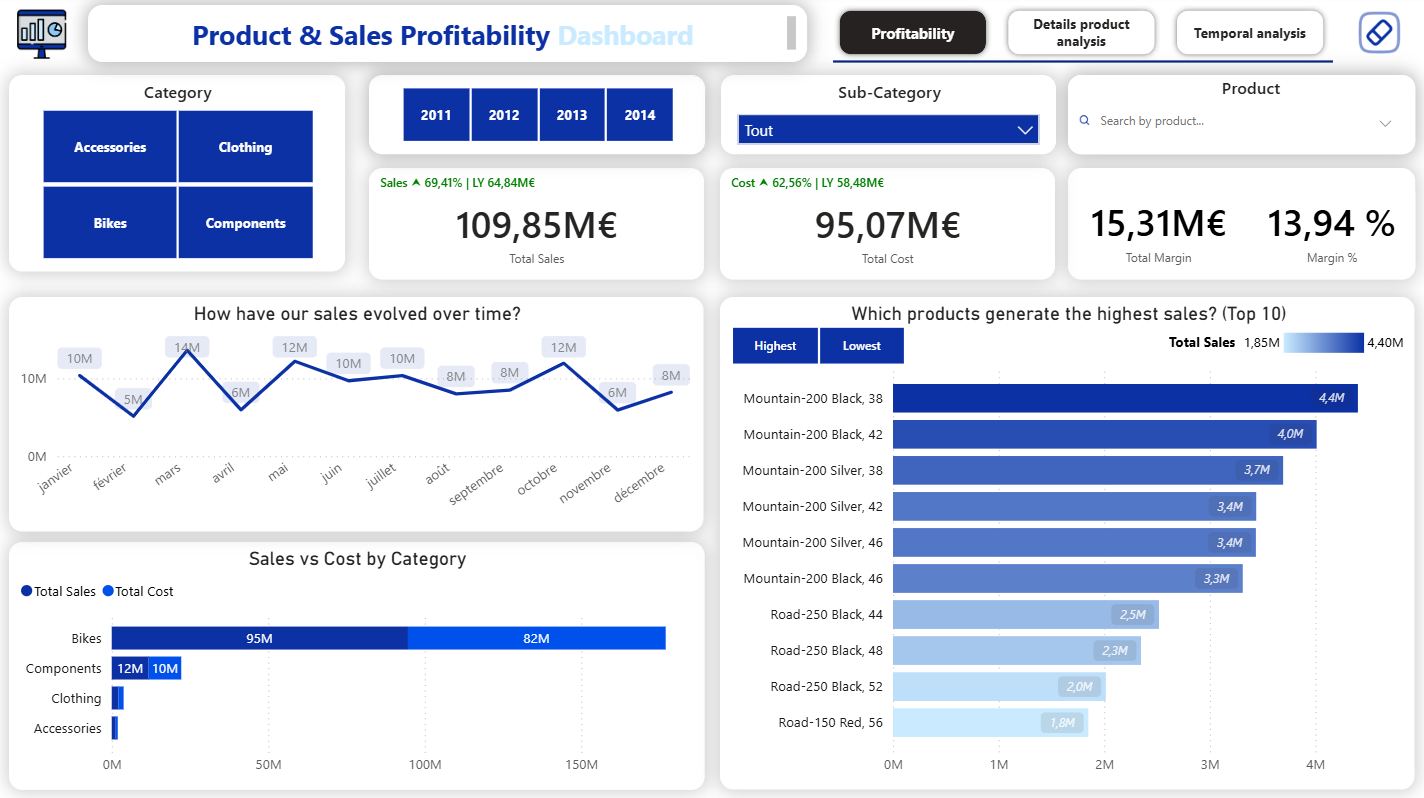

What the dashboard file says about the page in this screenshot:
{"tool":"powerbi","page":{"name":"Profitability","canvas":[1280,720],"ordinal":0},"visuals":[{"type":"shape","box":[959,154.7,311.2,92.4],"z":0},{"type":"card","title":"Total Sales","fields":{"Values":["ProductProfitability.Total Sales"]},"box":[332.6,154.7,300.5,92.4],"z":1000},{"type":"card","title":"Total Margin","fields":{"Values":["ProductProfitability.Total Margin"]},"box":[959.3,154.8,162.2,92.3],"z":2000},{"type":"card","title":"Margin %","fields":{"Values":["ProductProfitability.Margin %"]},"box":[1114.7,154.7,155.6,92.4],"z":3000},{"type":"slicer","title":"Category","fields":{"Values":["ProductProfitability.Category"]},"box":[10.7,71,300.5,176],"z":4000},{"type":"slicer","fields":{"Values":["ProductProfitability.OrderDate.Variation.Hiérarchie de dates.Année"]},"box":[332.8,70.9,301.1,70.9],"z":5000},{"type":"card","title":"Total Cost","fields":{"Values":["ProductProfitability.Total Cost"]},"box":[647.8,154.7,300.5,92.4],"z":6000},{"type":"barChart","title":"Which products generate the highest sales? (Top 10)","fields":{"Category":["ProductProfitability.ProductName"],"Y":["ProductProfitability.Total Sales"]},"box":[647.8,260.7,622.5,450.3],"z":7000},{"type":"barChart","title":"Sales vs Cost by Category","fields":{"Y":["ProductProfitability.Total Sales","ProductProfitability.Total Cost"],"Category":["ProductProfitability.Category Hiérarchie.Category","ProductProfitability.Category Hiérarchie.SubCategory"]},"box":[10.7,489,622.4,222.1],"z":8000},{"type":"slicer","title":"Sub-Category","fields":{"Values":["ProductProfitability.SubCategory"]},"box":[647.9,70.9,300.2,70.9],"z":9000},{"type":"slicer","title":"Product","fields":{"Values":["ProductProfitability.ProductName"]},"box":[959.3,70.9,311.4,70.9],"z":10000},{"type":"lineChart","title":"How have our sales evolved over time?","fields":{"Y":["ProductProfitability.Total Sales"],"Category":["ProductProfitability.OrderDate.Variation.Hiérarchie de dates.Année","ProductProfitability.OrderDate.Variation.Hiérarchie de dates.Mois"]},"box":[10.7,260.6,622.4,218.5],"z":11000},{"type":"textbox","box":[81.5,8.1,643.9,51],"z":12000},{"type":"pageNavigator","box":[749.1,6.9,447.1,51.3],"z":13000},{"type":"shape","box":[748.7,46.6,447.8,24.2],"z":14000},{"type":"image","box":[0,6.9,80.9,54.3],"z":15000},{"type":"image","box":[1196.4,6.8,83.6,50.6],"z":16000}]}

Visuals, with their boxes in screenshot pixels (x1, y1, x2, y2), scaled from the page's 1280x720 canvas onto the 1424x798 screenshot:
shape: 1067, 171, 1413, 274
"Total Sales" card: 370, 171, 704, 274
"Total Margin" card: 1067, 172, 1248, 274
"Margin %" card: 1240, 171, 1413, 274
"Category" slicer: 12, 79, 346, 274
slicer - ProductProfitability.OrderDate.Variation.Hiérarchie de dates.Année: 370, 79, 705, 157
"Total Cost" card: 721, 171, 1055, 274
"Which products generate the highest sales? (Top 10)" barChart: 721, 289, 1413, 788
"Sales vs Cost by Category" barChart: 12, 542, 704, 788
"Sub-Category" slicer: 721, 79, 1055, 157
"Product" slicer: 1067, 79, 1414, 157
"How have our sales evolved over time?" lineChart: 12, 289, 704, 531
textbox: 91, 9, 807, 66
pageNavigator: 833, 8, 1331, 65
shape: 833, 52, 1331, 78
image: 0, 8, 90, 68
image: 1331, 8, 1423, 64
